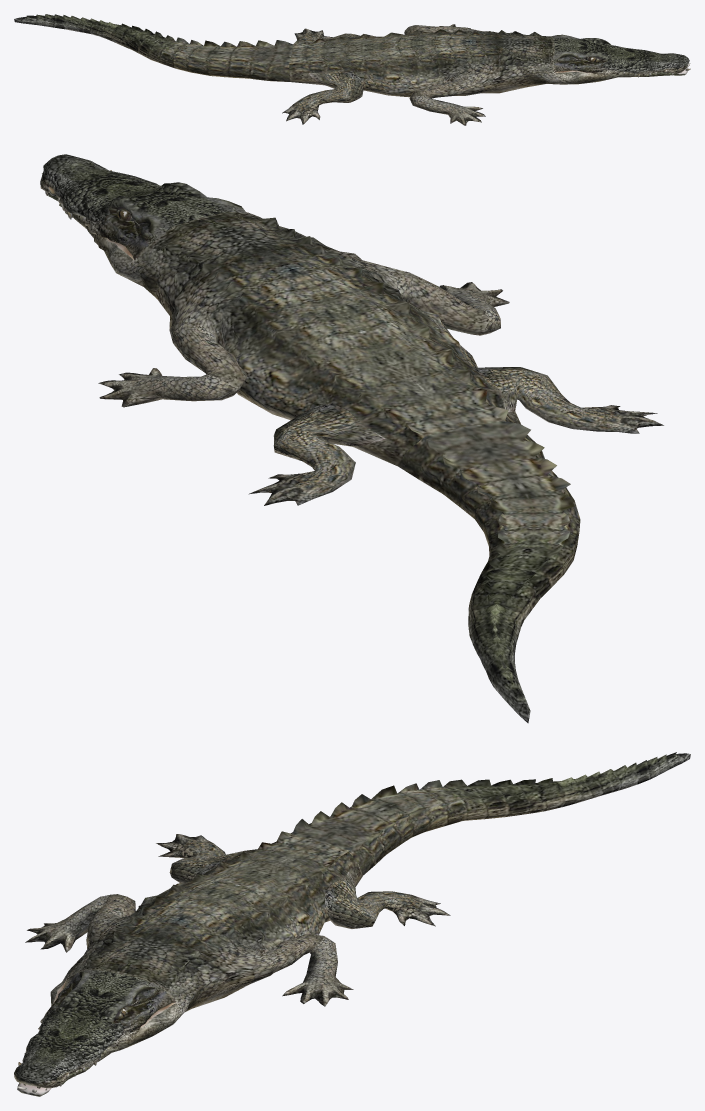
Rendered from cocodrilo.fbx.
The picture shows the model from 3 angles, top to bottom: view 1: azimuth 30°, elevation 25°; view 2: azimuth 150°, elevation 25°; view 3: azimuth 270°, elevation 25°; orthographic projection. The views are drawn at different scales.
Visible parts, largest first — view 1: Crocodile:Crocodie.001; view 2: Crocodile:Crocodie.001; view 3: Crocodile:Crocodie.001.
Boxes of the visible parts, left/top/right/bottom form: Crocodile:Crocodie.001: left=14, top=14, right=690, bottom=125; Crocodile:Crocodie.001: left=40, top=154, right=663, bottom=723; Crocodile:Crocodie.001: left=14, top=752, right=690, bottom=1096.
Size of the model in its own units: 103 by 8.22 by 86.81.
1 material, 1 textured.
